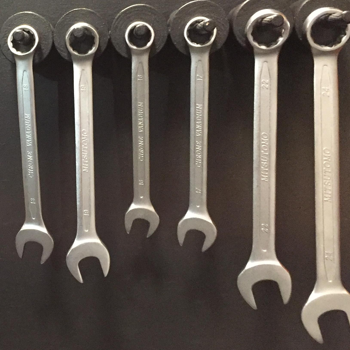bottom: (235, 257, 293, 311), (299, 289, 350, 345), (64, 238, 113, 285), (13, 224, 55, 266), (174, 213, 218, 253), (123, 203, 161, 240)
top: (302, 6, 349, 54), (243, 7, 292, 53), (182, 14, 220, 52), (64, 21, 101, 59), (5, 22, 42, 59), (123, 19, 157, 53)
